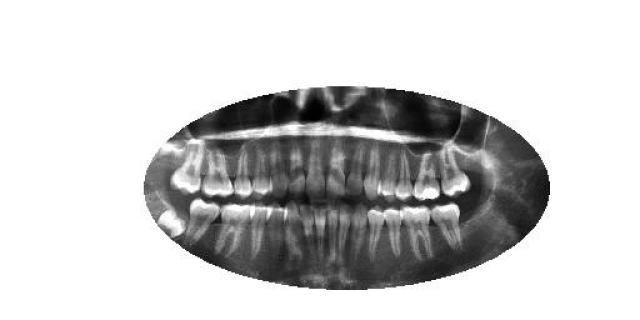Fillings: (413, 152, 442, 202)
Restorations: (156, 208, 189, 240)
